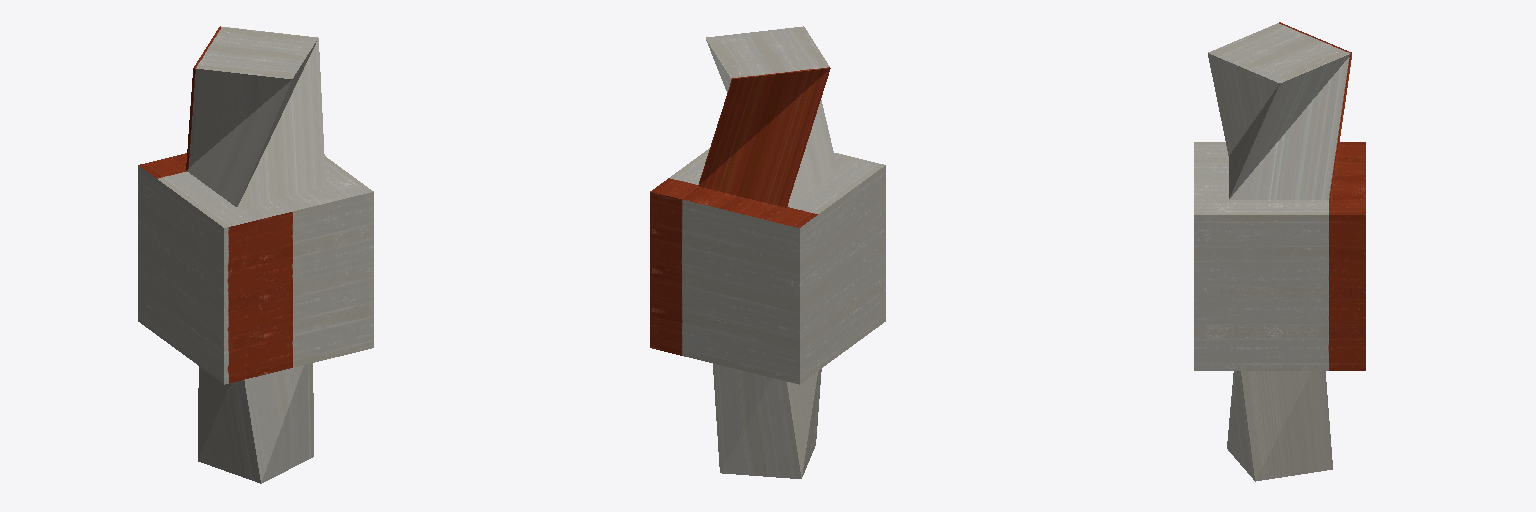
3 renders of one model, left to right at view 1: azimuth 30°, elevation 25°; view 2: azimuth 150°, elevation 25°; view 3: azimuth 270°, elevation 25°, orthographic.
Parts seen in each view (by area): view 1: Cube; view 2: Cube; view 3: Cube.
Boxes of the visible parts, <box> form: Cube: <box>138,26,373,483</box>; Cube: <box>650,26,885,478</box>; Cube: <box>1194,22,1365,481</box>.
Size of the model in its own units: 2 by 5.19 by 2.
Materials: 1 (1 with a texture image).